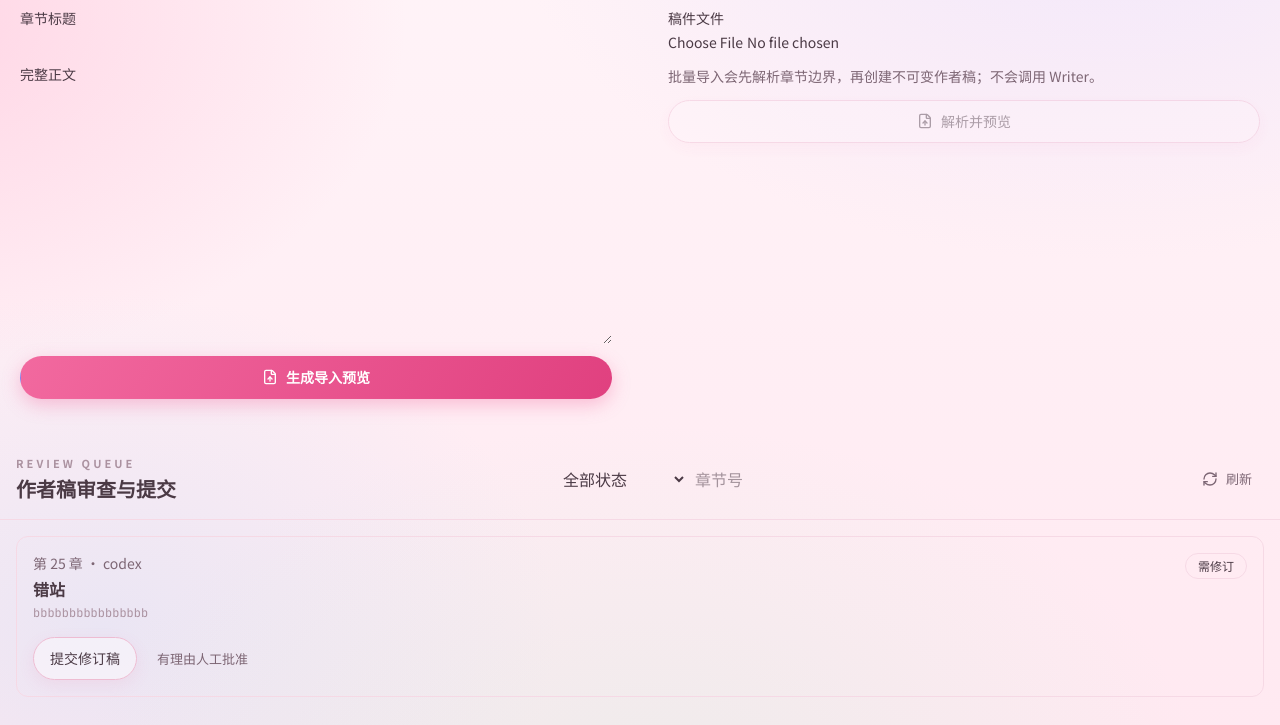
AuthorSubmissionsClient › requires a reason before manually approving a needs-revision submission
Later steps or results of the test are not shown.
(page scrolled)
What coordinates should you click on to do the following:
click the button "有理由人工批准"
I would click on:
 (202, 658)
Its box is [145, 637, 260, 680].
(page scrolled)
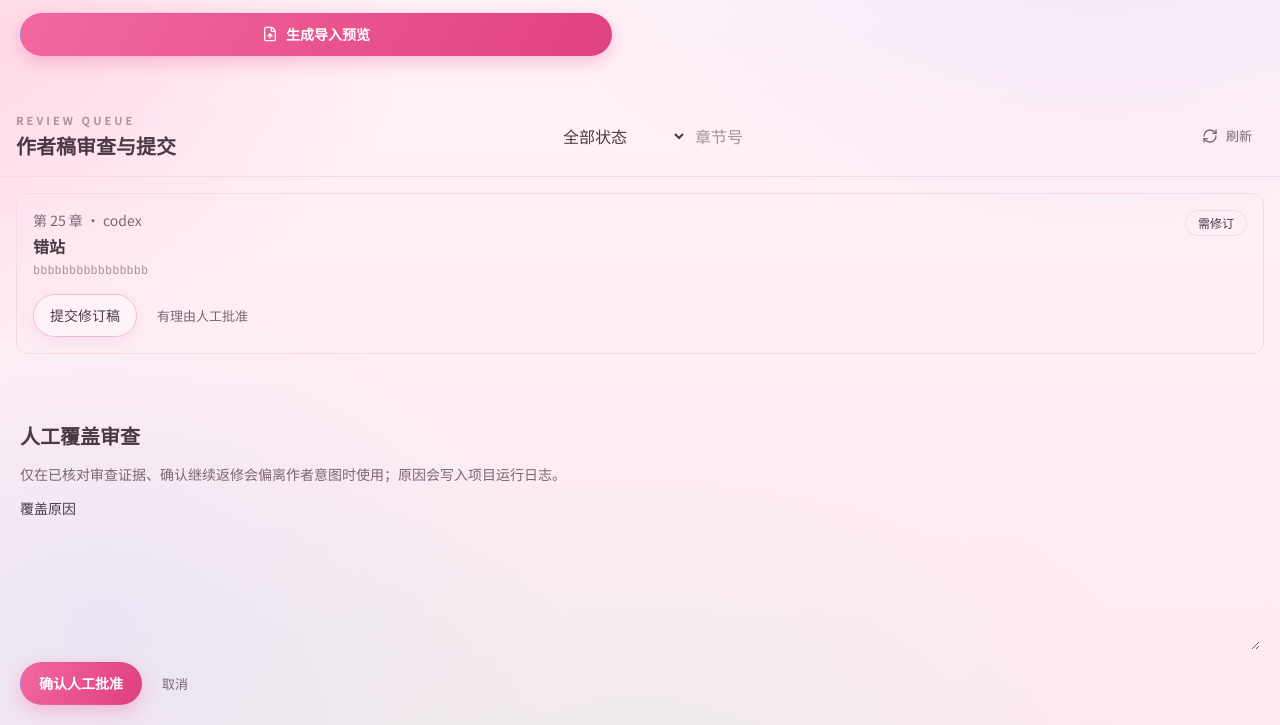
Expected: the heading "人工覆盖审查" is shown, [20, 421, 140, 450]
